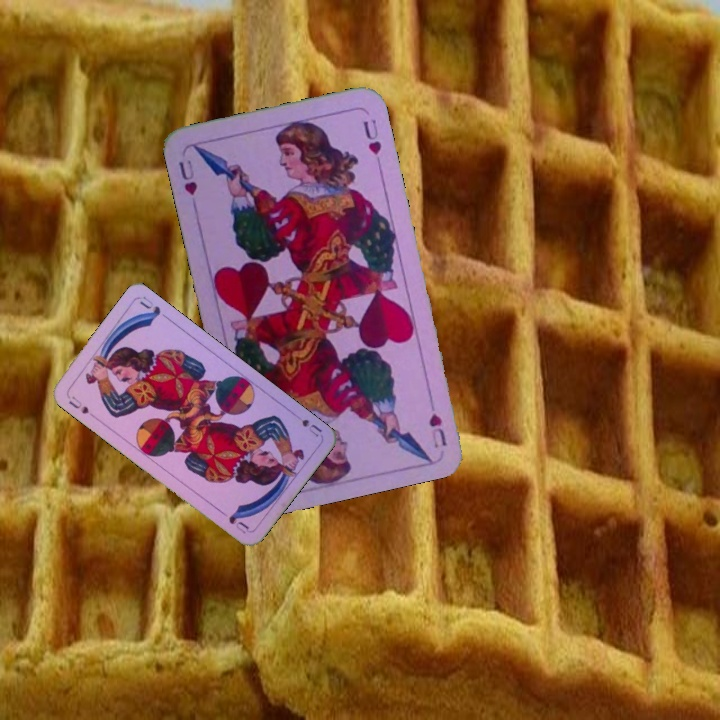HU: (424, 393, 449, 451), (174, 156, 200, 198)
SU: (288, 409, 325, 439), (63, 391, 98, 421)
